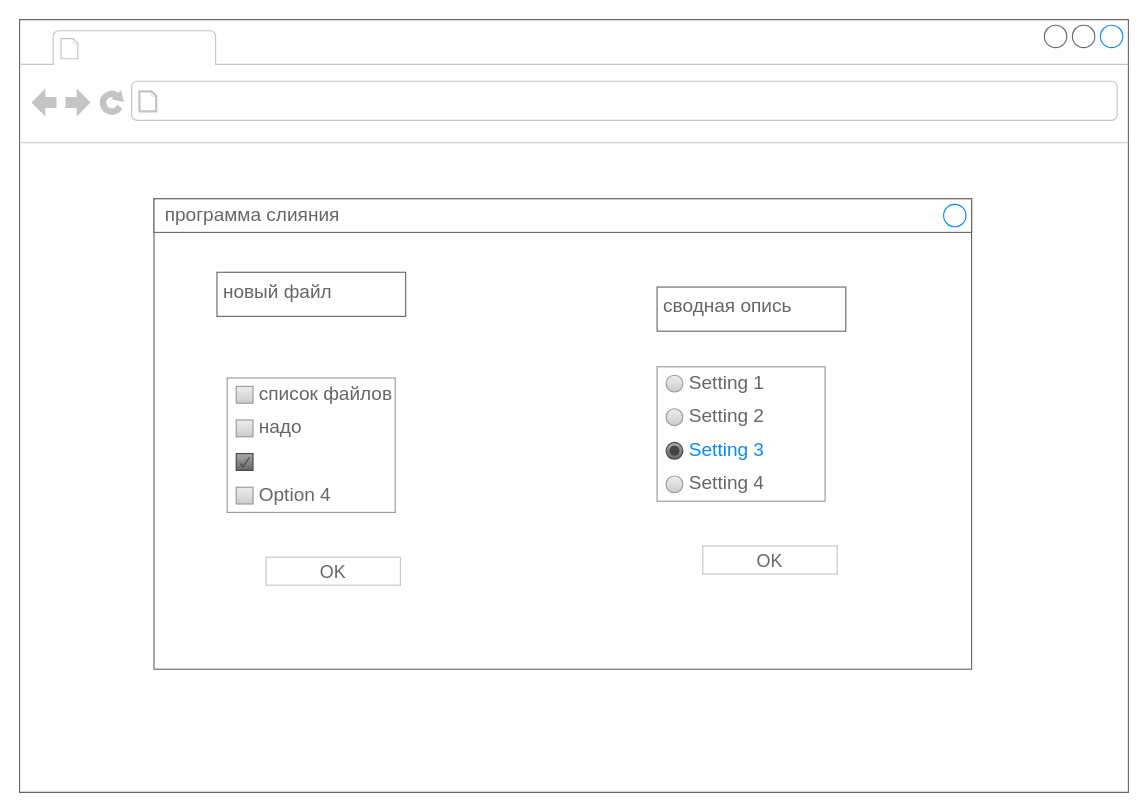
This 1148x812 diagram has some shape labels left out. The centre of each missing label's shape, as x and y in pixels:
"https://www.draw.io" goes at pixel 304 101.
"Option 3" goes at pixel 244 461.
"Page 1" goes at pixel 148 47.
